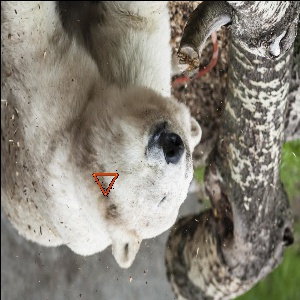triangle: (90, 170, 121, 199)
